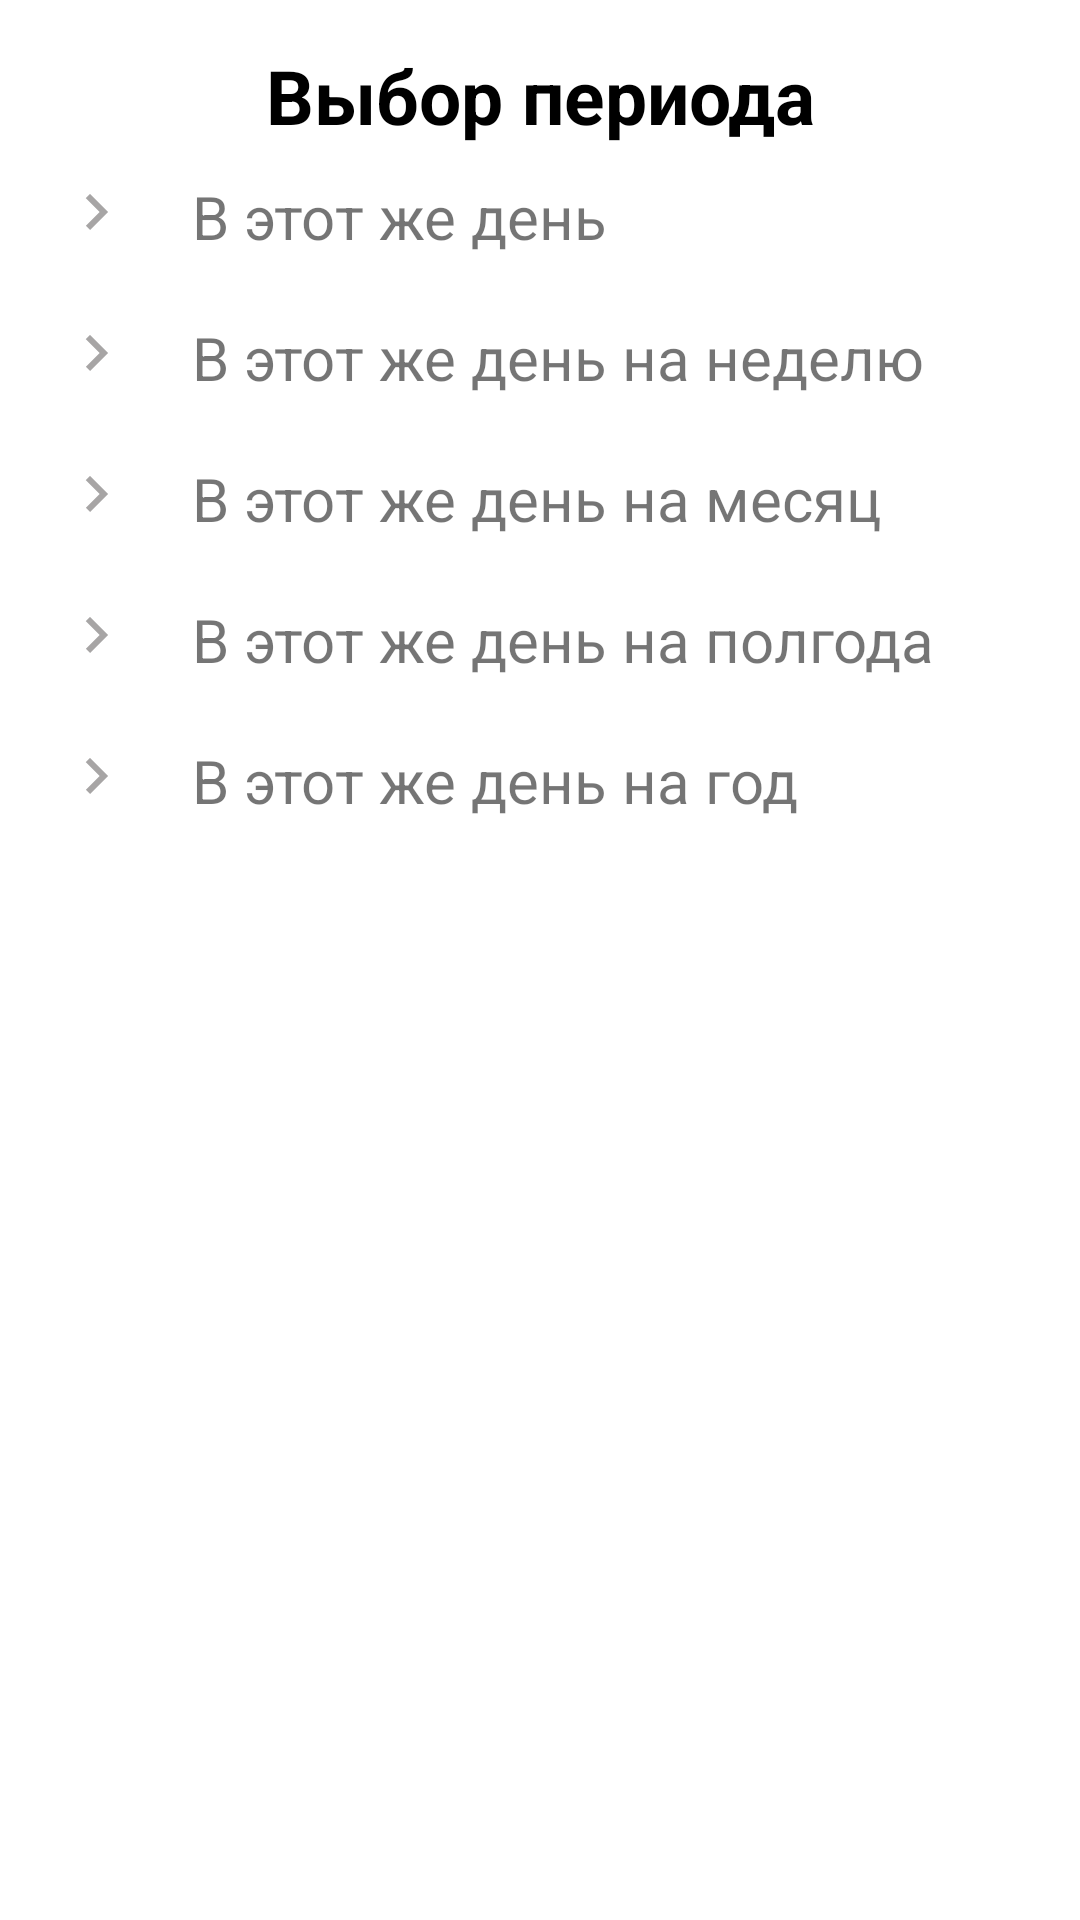

Where icons sit on this 1080×1920 app screen, as bbox(x1, y1, x2, y2):
arrow: bbox(86, 194, 108, 230), bbox(86, 335, 108, 371), bbox(86, 476, 108, 512), bbox(86, 617, 108, 653), bbox(86, 758, 108, 794)
